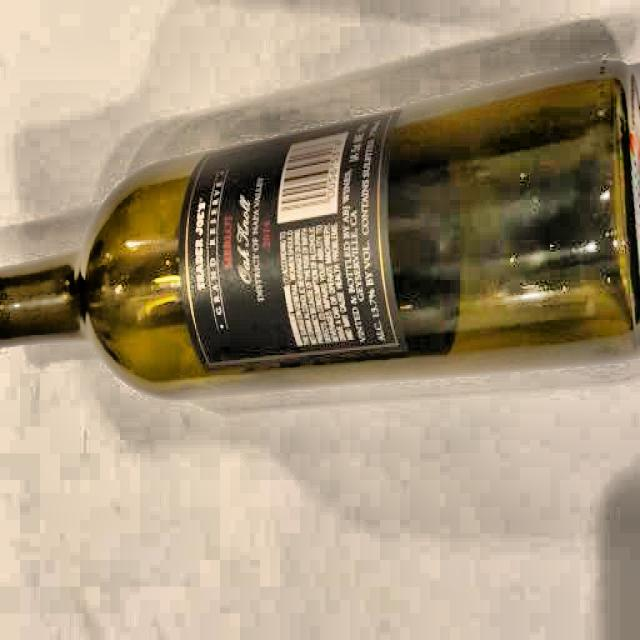glass: (0, 57, 640, 404)
